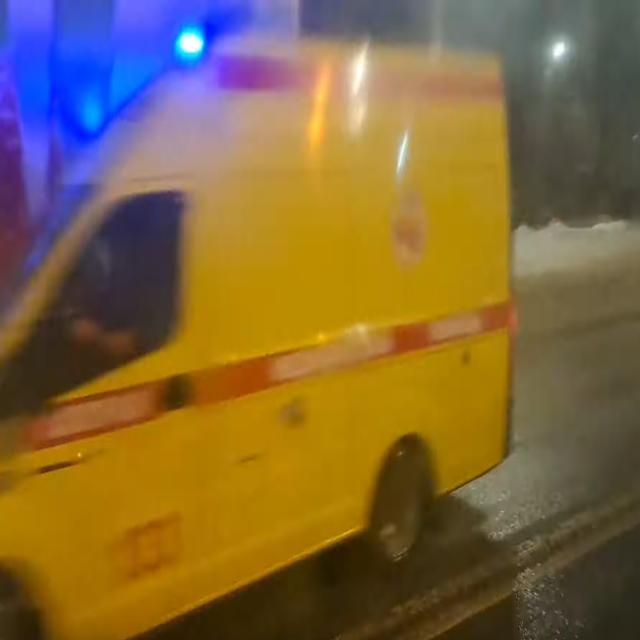intensive care unit: (1, 14, 512, 634)
